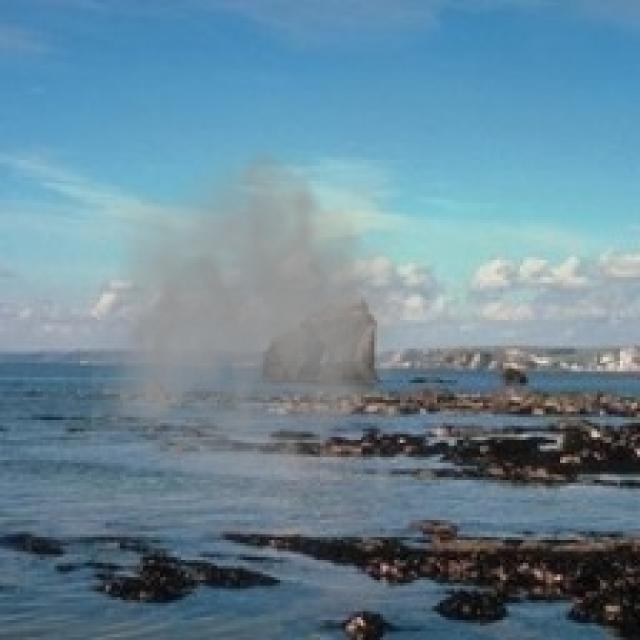Smoke: (91, 132, 443, 517)
